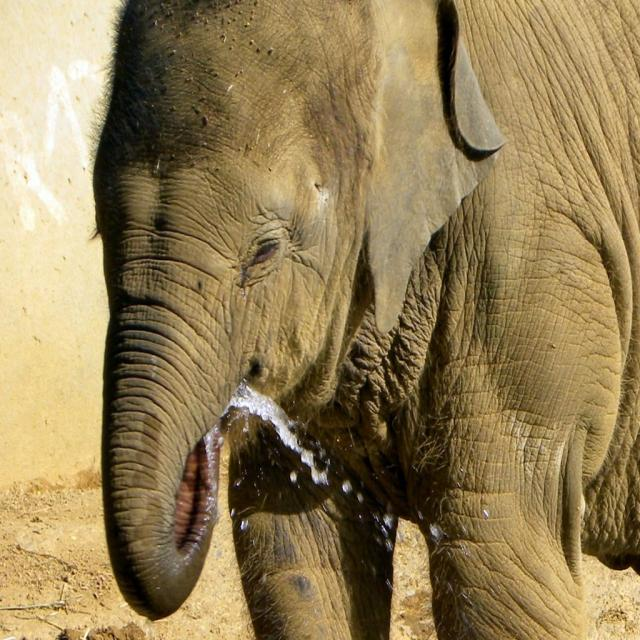Elephant: (56, 0, 640, 640)
